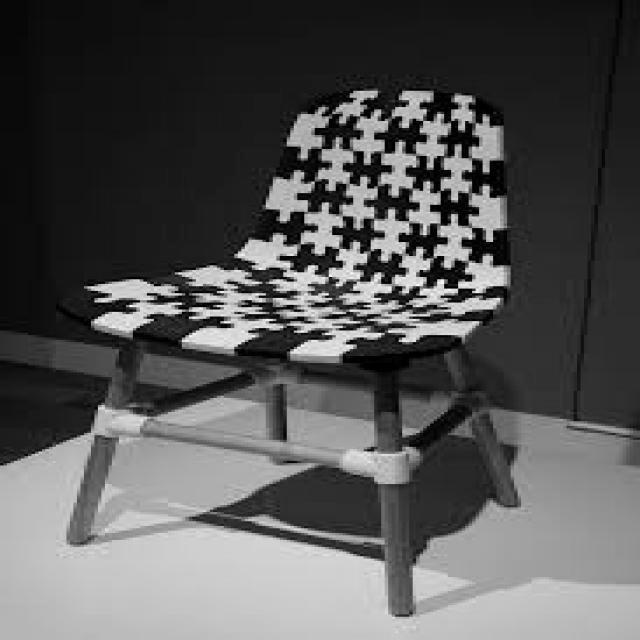chair: (54, 85, 524, 616)
